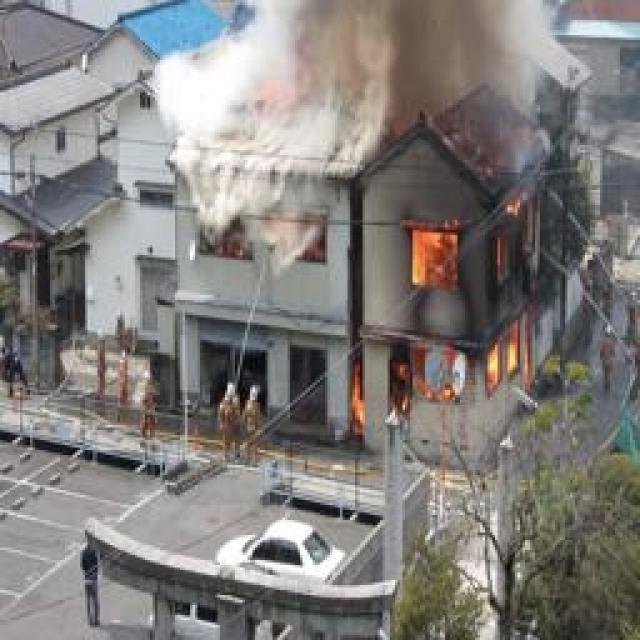Fire: (338, 197, 536, 441)
